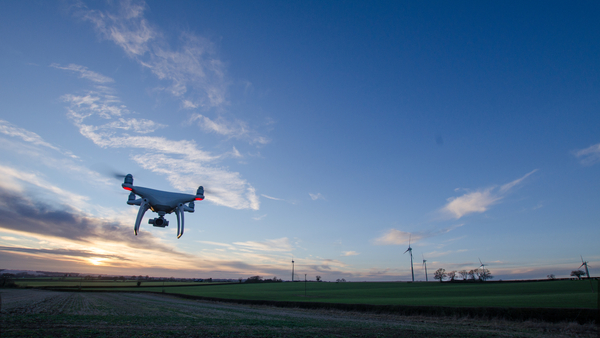drone: (109, 170, 208, 240)
